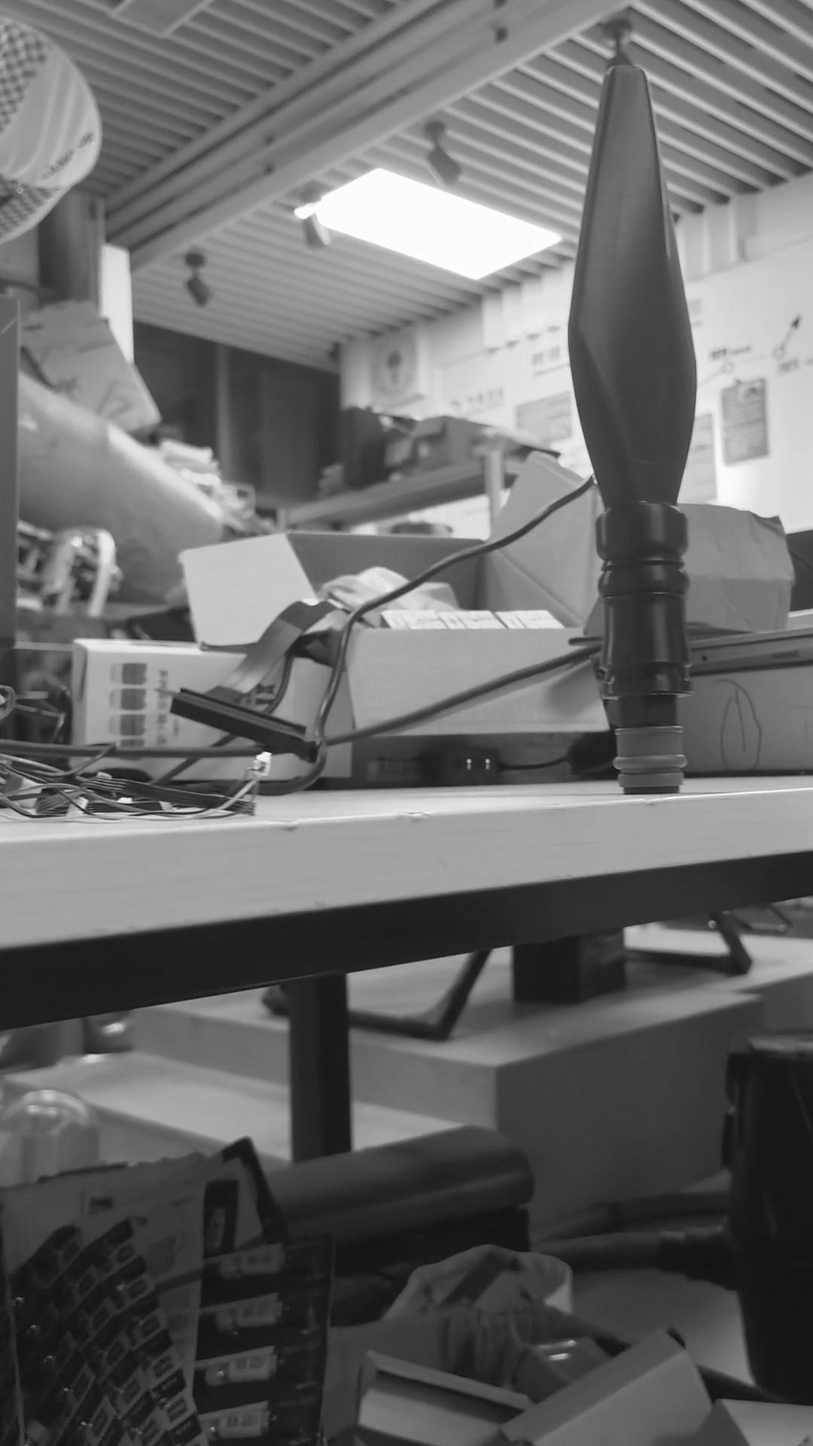base: (610, 715, 694, 797)
